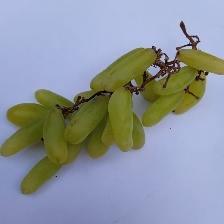grapes: (14, 1, 199, 201)
